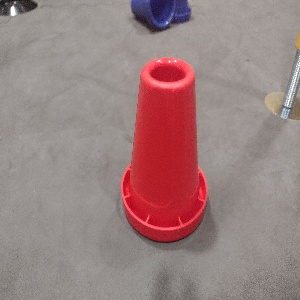Red_1: (119, 55, 208, 243)
